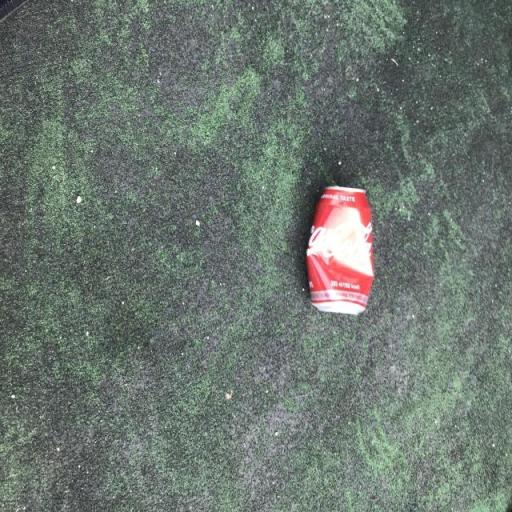metal: (301, 169, 378, 334)
